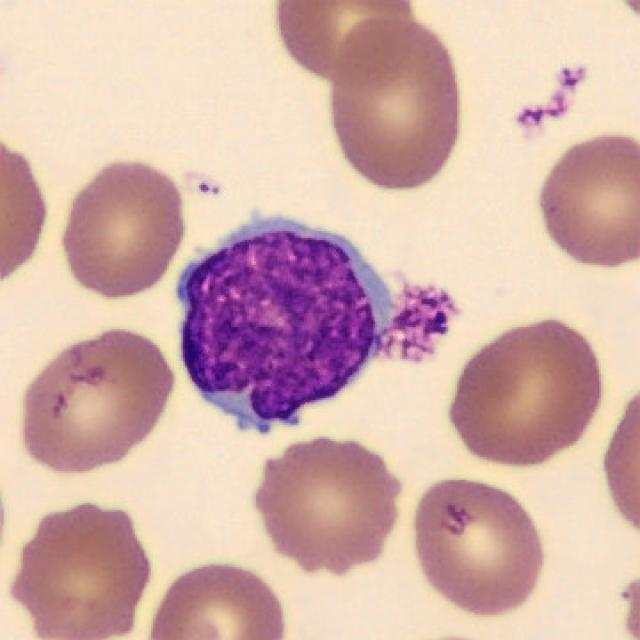Linfocito: (178, 220, 389, 434)
